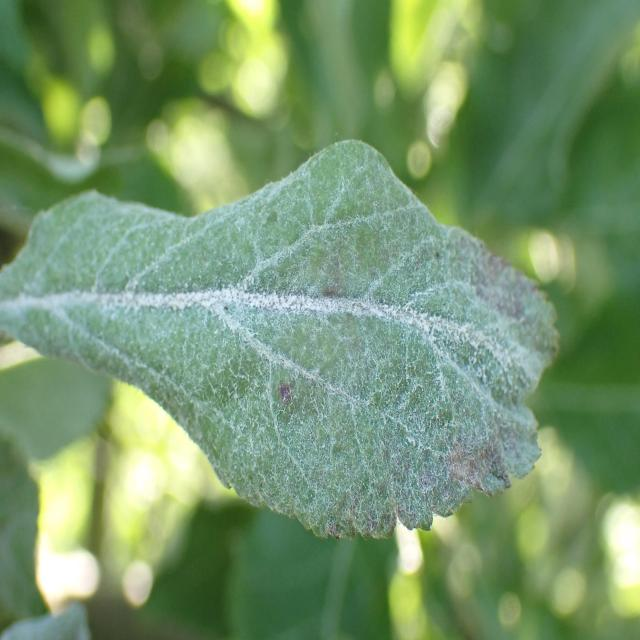Powdery_mildew: (0, 132, 565, 557)
